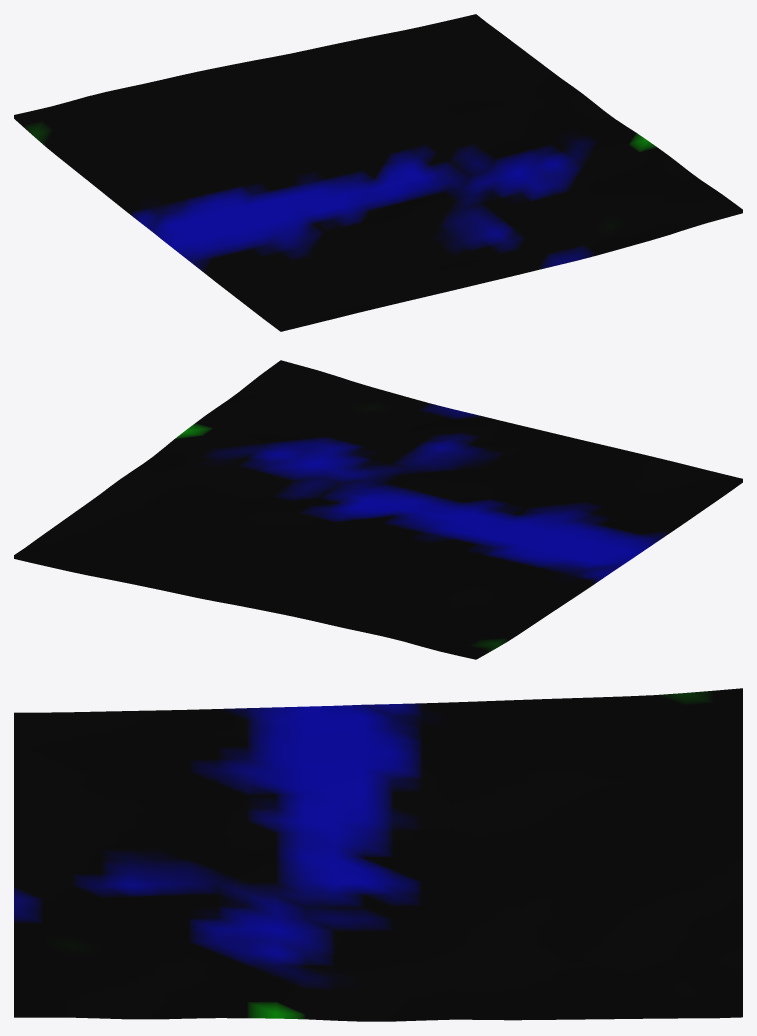
File: coast_10_6.glb
3 renders of one model, top to bottom at view 1: azimuth 30°, elevation 25°; view 2: azimuth 150°, elevation 25°; view 3: azimuth 270°, elevation 25°, orthographic. The views are drawn at different scales.
Parts seen in each view (by area): view 1: terrain; view 2: terrain; view 3: terrain.
Part boxes in pixels (x1,y1,x2,y2): terrain: [14, 14, 742, 331]; terrain: [14, 360, 742, 659]; terrain: [14, 688, 742, 1021].
Bounding box in the file's own units: 200 × 9.63 × 200.
